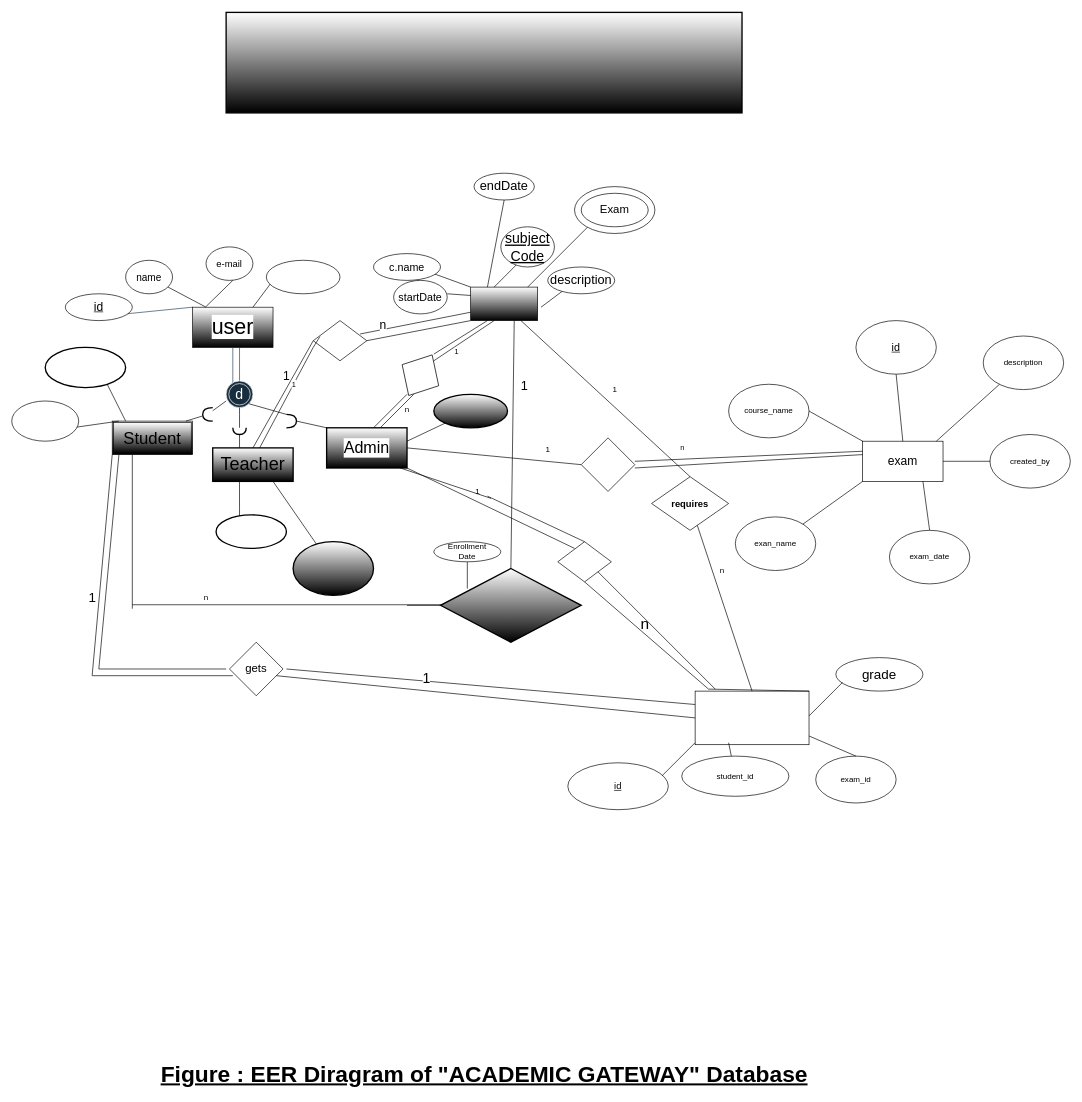
This 1082x1102 diagram has some shape labels left out. The shapes that lost their labels are listed below. From the top down, each one's centre as x and y in pixels, then its label:
At point 483,62: "Academic Gateway".
At point 303,277: "password".
At point 504,303: "Course".
At point 340,340: "teaches".
At point 85,367: "department".
At point 420,375: "added".
At point 45,420: "enrollment year".
At point 470,410: "Permission".
At point 608,464: "addes".
At point 251,531: "Specialization".
At point 333,568: "Designation".
At point 584,561: "manages".
At point 511,605: "Enrolls in".
At point 751,717: "Gradesheet".
